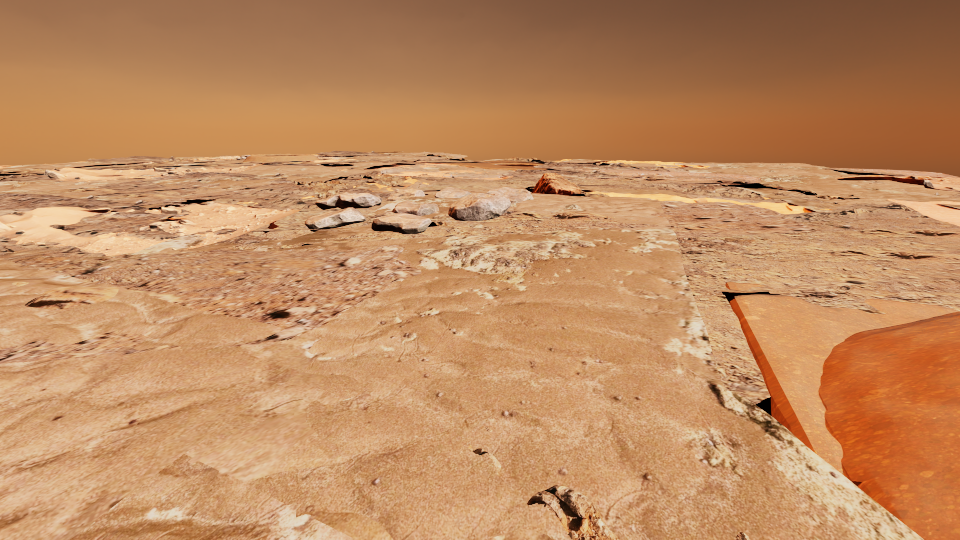bedrock: (410, 157, 859, 202), (0, 172, 283, 240), (189, 158, 438, 226), (677, 229, 959, 283), (769, 286, 959, 313), (527, 485, 618, 539), (784, 202, 930, 222), (25, 286, 118, 310), (0, 237, 105, 257), (94, 282, 184, 305), (484, 211, 636, 224), (84, 156, 203, 166), (338, 209, 395, 227), (0, 169, 51, 188), (468, 445, 500, 474), (217, 232, 280, 243), (426, 214, 460, 234), (825, 168, 918, 175), (316, 151, 391, 159), (405, 182, 478, 190), (419, 153, 483, 161), (330, 232, 408, 238), (671, 224, 719, 232), (897, 191, 959, 197), (716, 292, 732, 310), (706, 329, 718, 351), (174, 180, 219, 185), (90, 331, 119, 338), (575, 191, 609, 196), (213, 228, 237, 234), (206, 156, 239, 160), (152, 203, 184, 207), (288, 162, 325, 165), (736, 532, 749, 539), (797, 275, 822, 278), (12, 282, 28, 285)
hole: (492, 164, 537, 166)
rocks: (435, 187, 533, 220), (305, 192, 382, 231), (371, 200, 438, 233), (532, 173, 580, 195), (387, 189, 424, 200), (236, 155, 249, 159)
sand: (0, 224, 923, 539), (686, 163, 959, 225), (140, 152, 445, 196), (507, 186, 698, 224), (388, 163, 508, 185), (0, 177, 156, 193), (367, 191, 459, 217), (131, 235, 241, 254), (0, 161, 182, 172), (559, 159, 688, 167), (184, 159, 258, 167), (357, 181, 401, 192), (60, 194, 109, 198), (467, 222, 505, 227), (173, 199, 219, 203), (140, 203, 164, 207), (484, 176, 511, 179), (268, 222, 278, 228), (468, 190, 487, 193)
soil: (688, 256, 959, 539), (0, 215, 421, 346), (272, 201, 959, 248), (111, 189, 320, 248), (0, 334, 182, 363), (784, 234, 959, 254), (831, 168, 959, 187), (603, 170, 761, 184), (421, 160, 554, 170), (430, 178, 534, 189), (243, 154, 323, 165), (119, 184, 214, 192), (586, 178, 686, 185), (849, 173, 919, 183), (148, 166, 191, 176), (52, 173, 90, 182), (357, 203, 388, 212), (229, 164, 253, 172), (724, 238, 754, 244), (929, 185, 959, 191), (190, 168, 233, 171), (156, 207, 169, 214), (173, 161, 214, 163), (42, 193, 91, 194)
